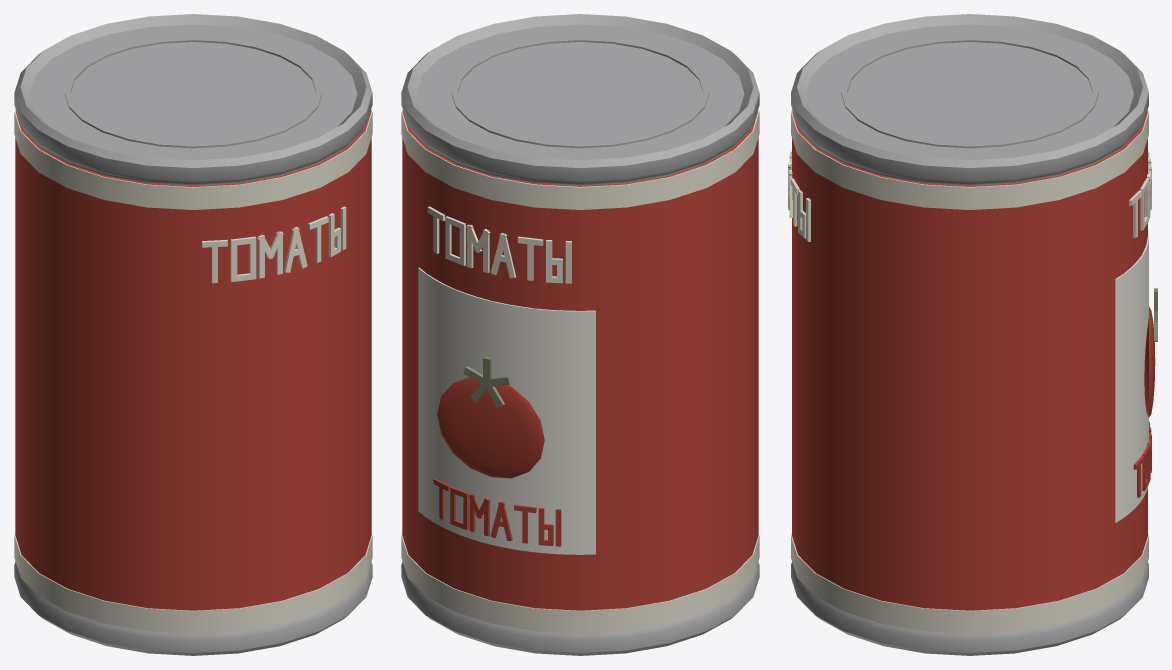
File: canned_tomato.glb
3 views of the same model, side by side, from view 1: azimuth 30°, elevation 25°; view 2: azimuth 150°, elevation 25°; view 3: azimuth 270°, elevation 25° (orthographic).
Parts seen in each view (by area): view 1: body; view 2: body; view 3: body.
Boxes of the visible parts, x1,y1,x2,y2 form: body: (14, 14, 372, 655); body: (401, 14, 759, 655); body: (788, 14, 1157, 655).
Size of the model in its own units: 0.072 by 0.11 by 0.0744.
